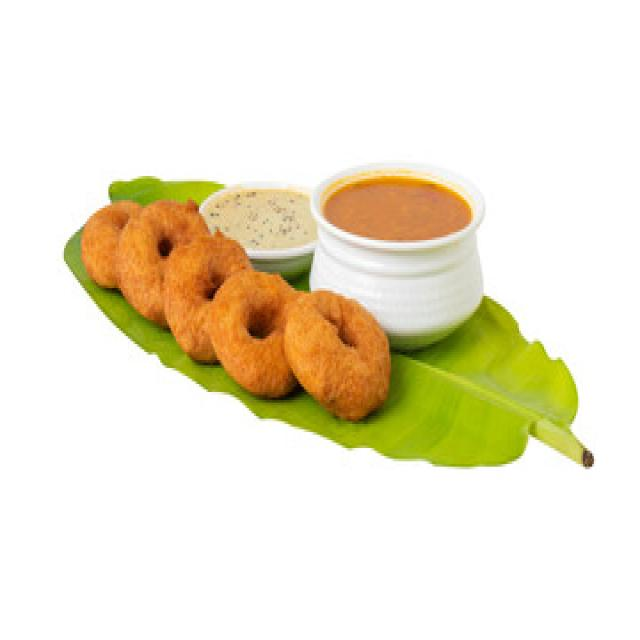SAMBAR: (319, 176, 494, 275)
VADA: (59, 182, 427, 459)
WHITE CHUTNEY: (194, 176, 324, 258)
